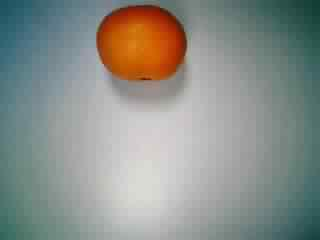orange: (92, 3, 192, 90)
